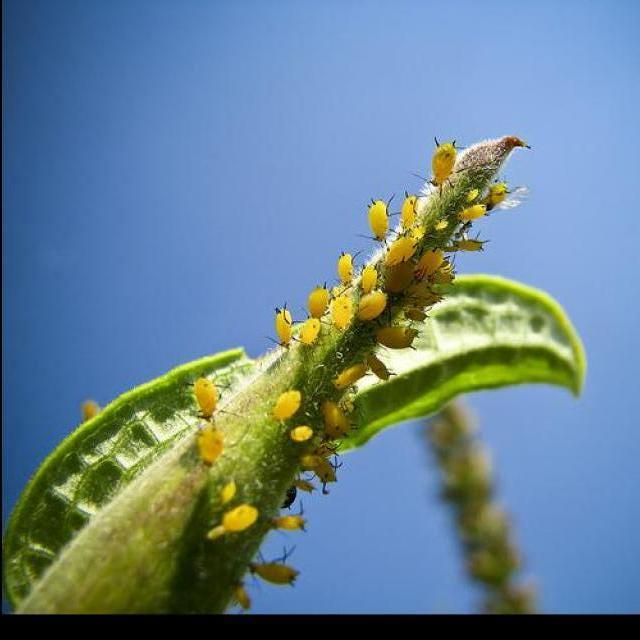aphid: (186, 503, 261, 546), (419, 138, 463, 192), (356, 192, 395, 240), (186, 373, 224, 421), (263, 302, 297, 349), (196, 422, 225, 466), (384, 234, 418, 268), (271, 389, 303, 423), (374, 326, 417, 350), (357, 289, 388, 322), (453, 228, 491, 252), (414, 248, 444, 278), (331, 294, 354, 330), (307, 285, 330, 319), (298, 317, 320, 346), (360, 263, 378, 294)
